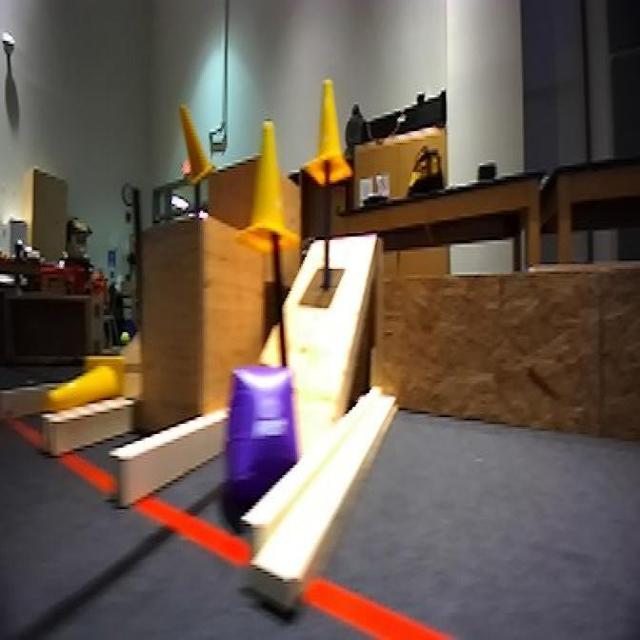frc_cone: (243, 130, 298, 250), (43, 354, 126, 420), (306, 78, 350, 185), (178, 87, 213, 189)
frc_cube: (221, 359, 302, 507)
